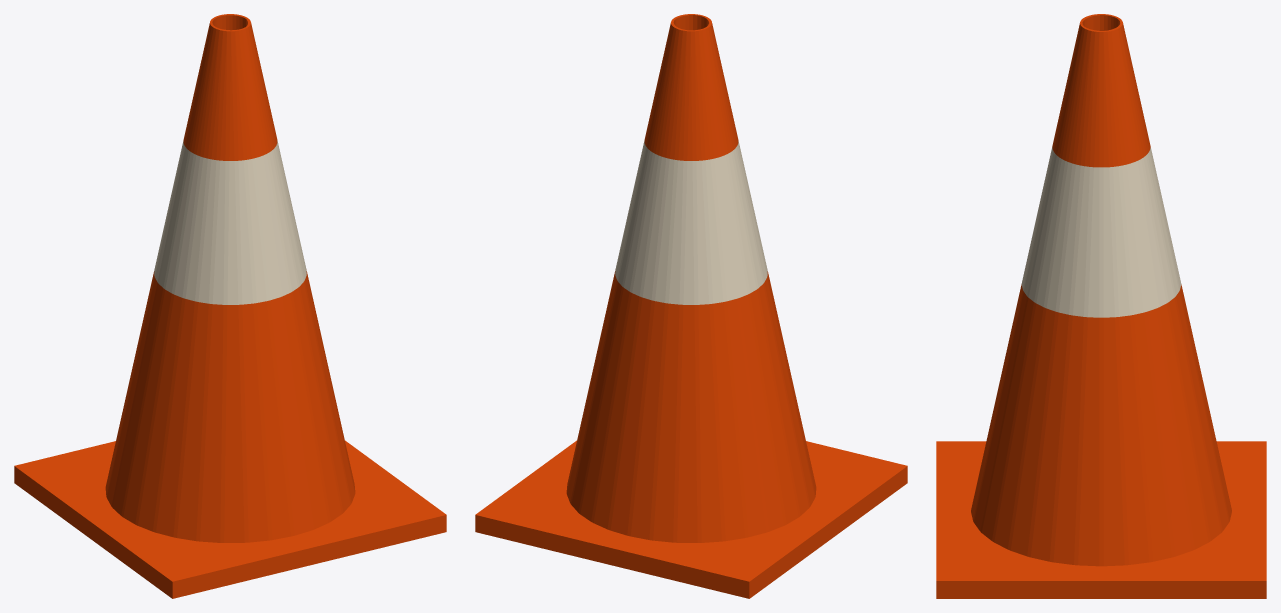
The model's file is Cone_tall.fbx.
The picture shows the model from 3 angles, left to right: view 1: azimuth 30°, elevation 25°; view 2: azimuth 150°, elevation 25°; view 3: azimuth 270°, elevation 25°; orthographic projection. The views are drawn at different scales.
Visible parts, largest first — view 1: TrafficCone_Tall; view 2: TrafficCone_Tall; view 3: TrafficCone_Tall.
Boxes of the visible parts, <box> form: TrafficCone_Tall: <box>14,14,446,598</box>; TrafficCone_Tall: <box>475,14,907,598</box>; TrafficCone_Tall: <box>936,14,1266,598</box>.
Size of the model in its own units: 200 by 338 by 200.
